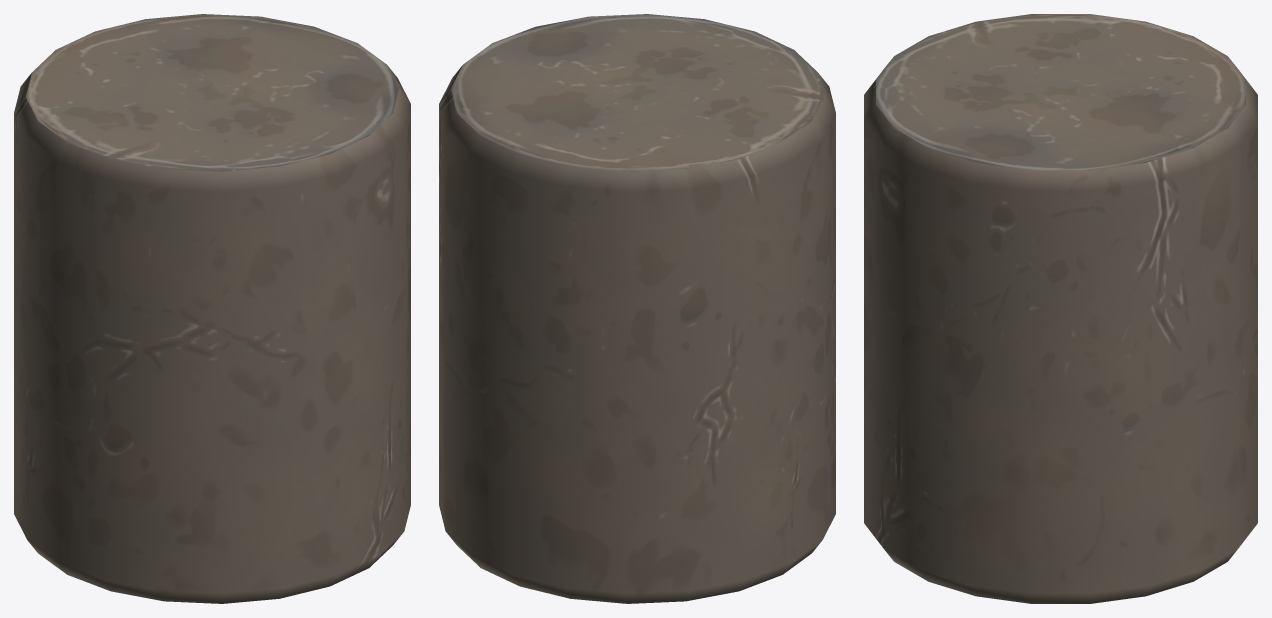
The model's file is Ruins_PillerMid_Intact_01a.fbx.
3 renders of one model, left to right at view 1: azimuth 30°, elevation 25°; view 2: azimuth 150°, elevation 25°; view 3: azimuth 270°, elevation 25°, orthographic.
Parts seen in each view (by area): view 1: Ruins_PillerMid_Intact_01a; view 2: Ruins_PillerMid_Intact_01a; view 3: Ruins_PillerMid_Intact_01a.
Part boxes in pixels (x1,y1,x2,y2): Ruins_PillerMid_Intact_01a: [14, 14, 410, 603]; Ruins_PillerMid_Intact_01a: [439, 14, 835, 603]; Ruins_PillerMid_Intact_01a: [864, 14, 1257, 603].
Bounding box in the file's own units: 1.98 × 2.4 × 1.98.
Materials: 1 (1 with a texture image).
